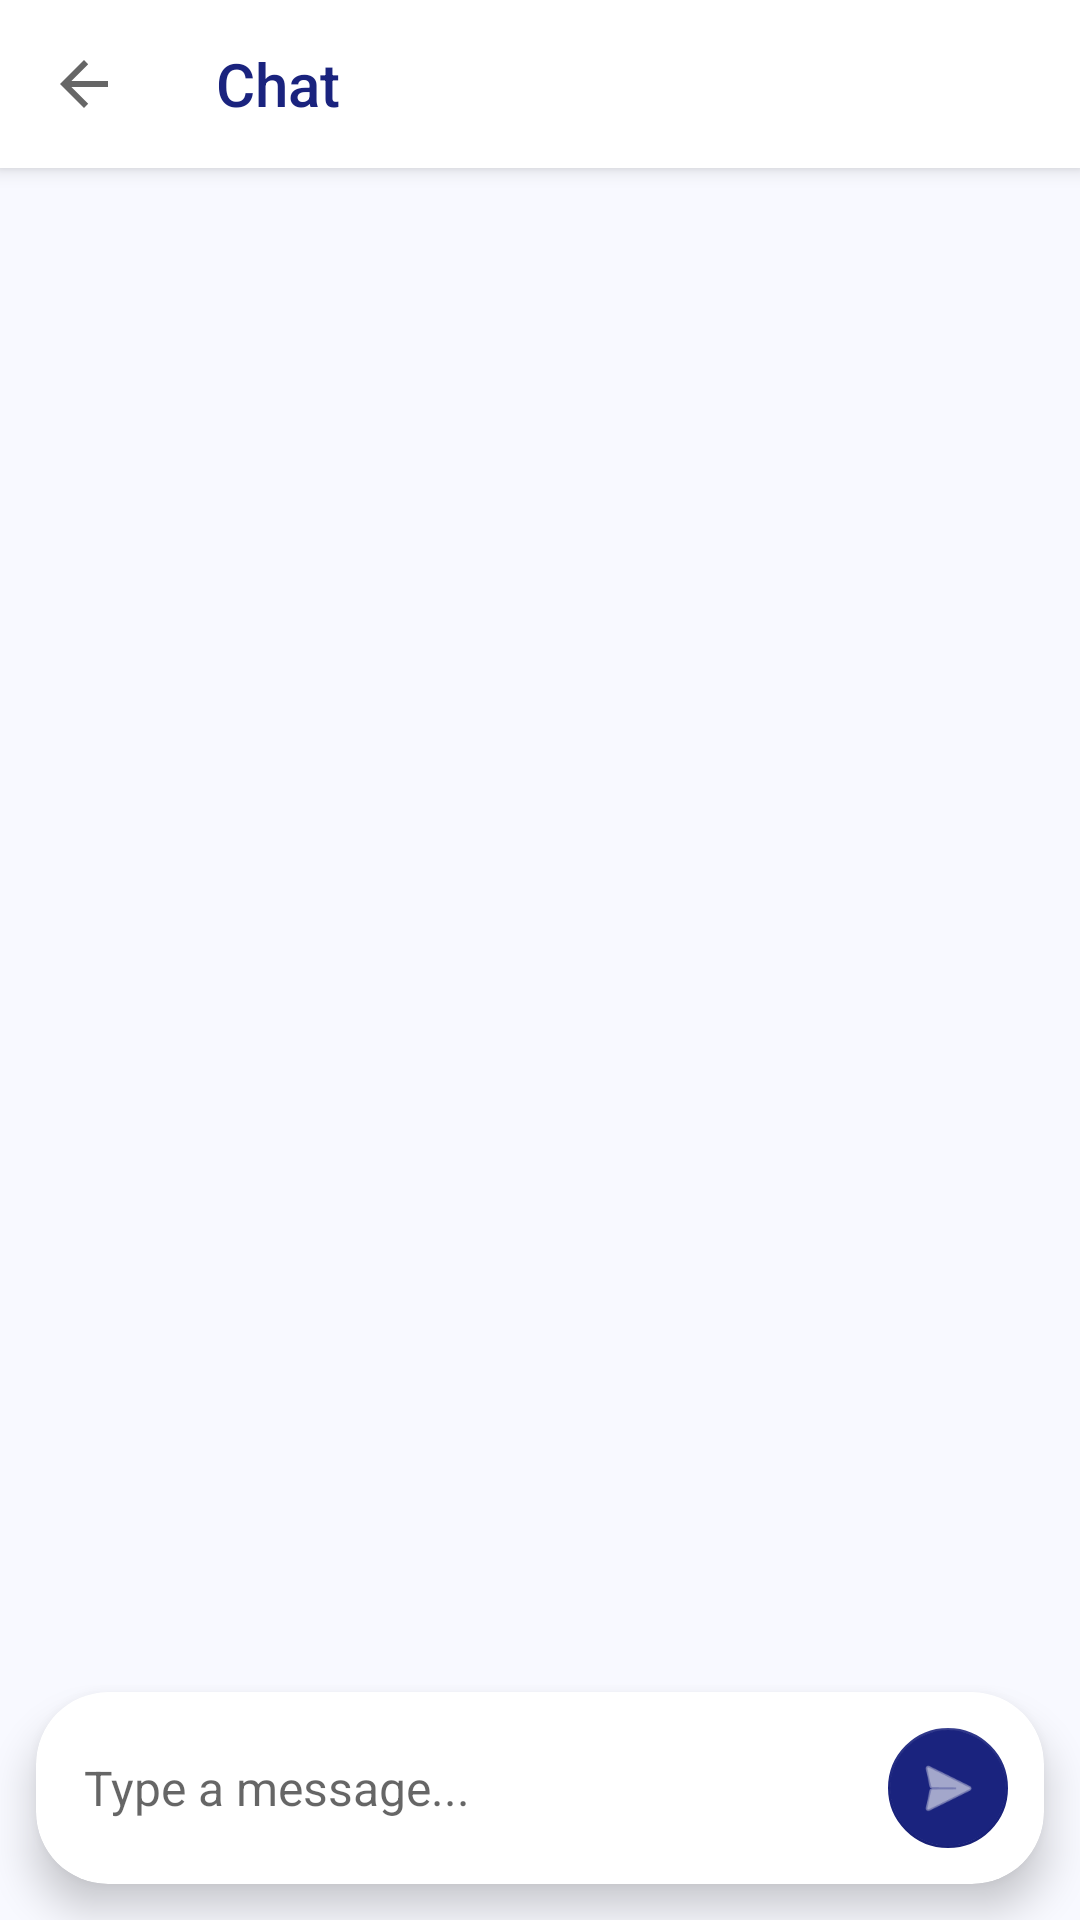

Where to tap for icons on this 1080×1920 app screen, as [x,y]:
Send Message: [948,1788]
